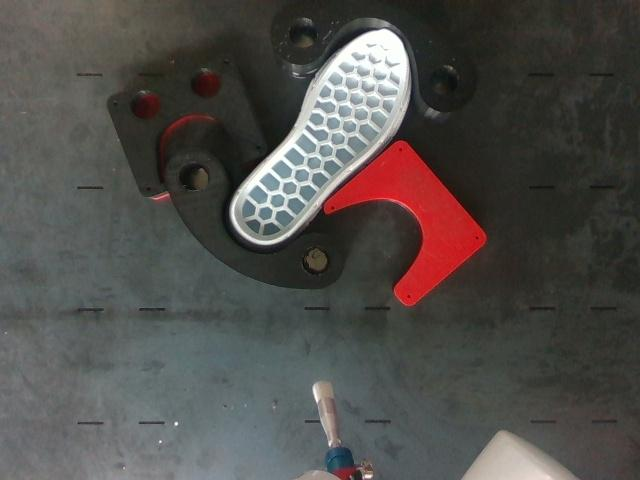shoes: (234, 30, 407, 240)
